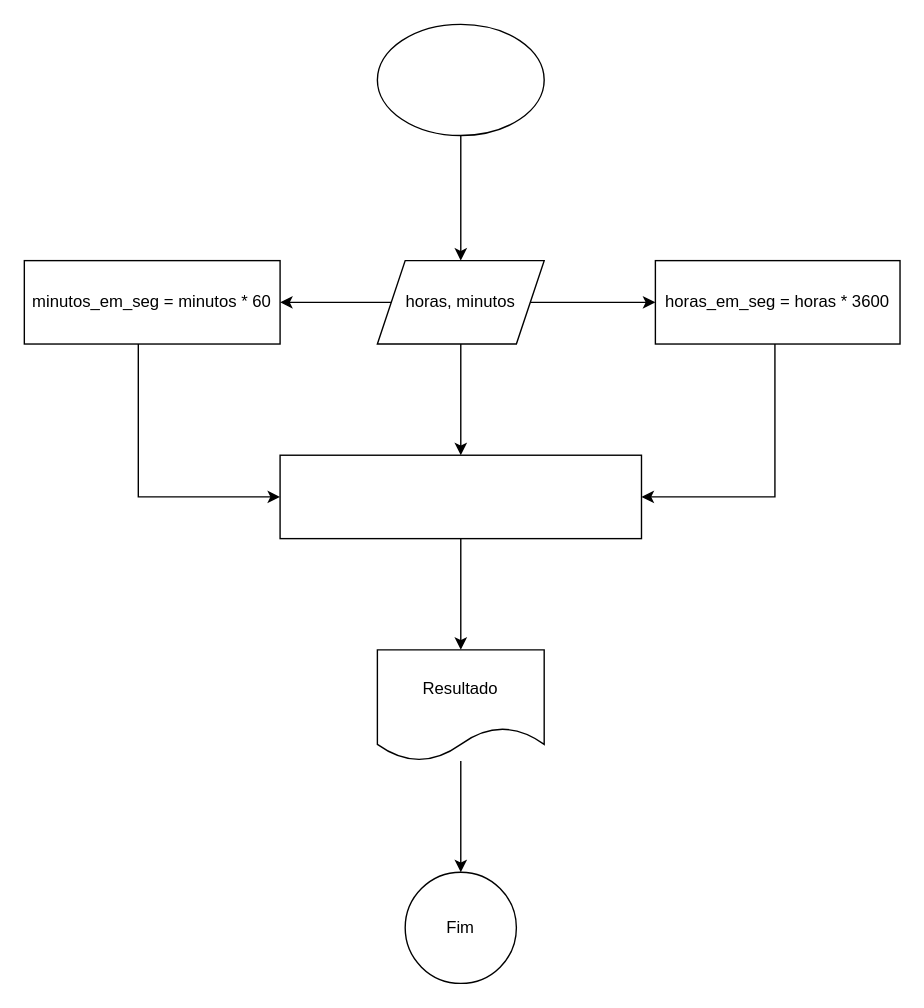
This 924x1008 diagram has some shape labels left out. The box of each missing label's shape, as (x1, y1, x2, y2) in pixels:
Inicio: (376, 23, 544, 136)
Segundos = horas_em_seg + minutos_em_seg: (279, 454, 641, 539)
